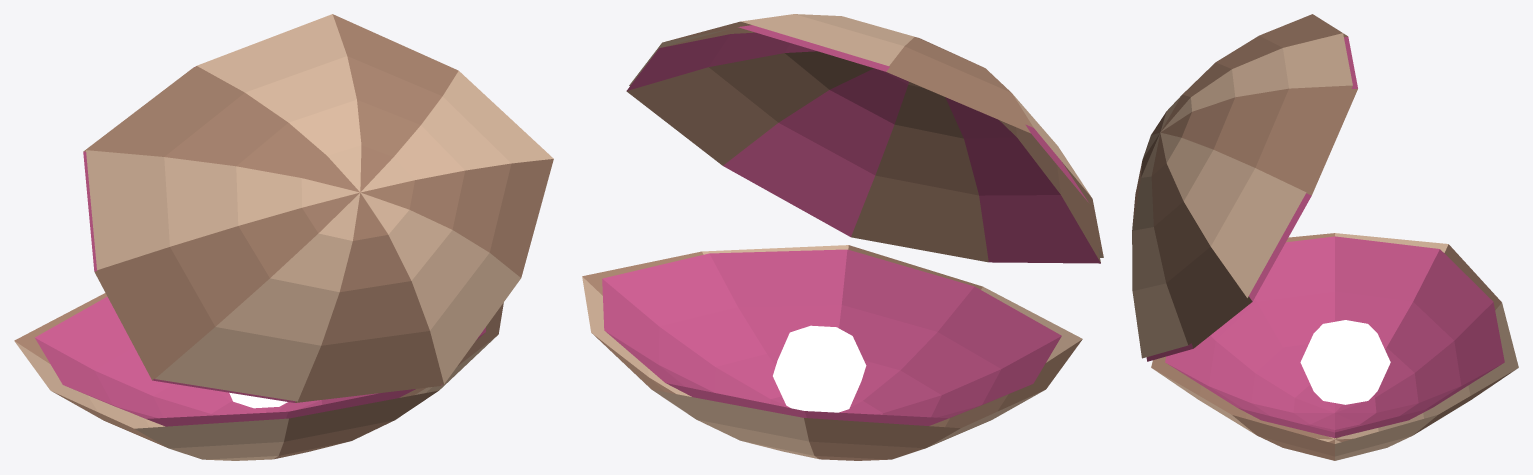
File: clam_shell.glb
3 views of the same model, side by side, from view 1: azimuth 30°, elevation 25°; view 2: azimuth 150°, elevation 25°; view 3: azimuth 270°, elevation 25° (orthographic). The views are drawn at different scales.
Visible parts, largest first — view 1: Lid, Body; view 2: Lid, Body, Pearl; view 3: Lid, Body, Pearl.
Part boxes in pixels (<box>): Lid: <box>83,14,553,402</box>; Body: <box>14,293,503,460</box>; Lid: <box>626,14,1103,263</box>; Body: <box>582,245,1082,460</box>; Pearl: <box>773,325,866,412</box>; Lid: <box>1132,14,1357,361</box>; Body: <box>1151,233,1518,460</box>; Pearl: <box>1300,320,1390,404</box>.
Bounding box in the file's own units: 0.9393 × 0.8057 × 0.7277.
